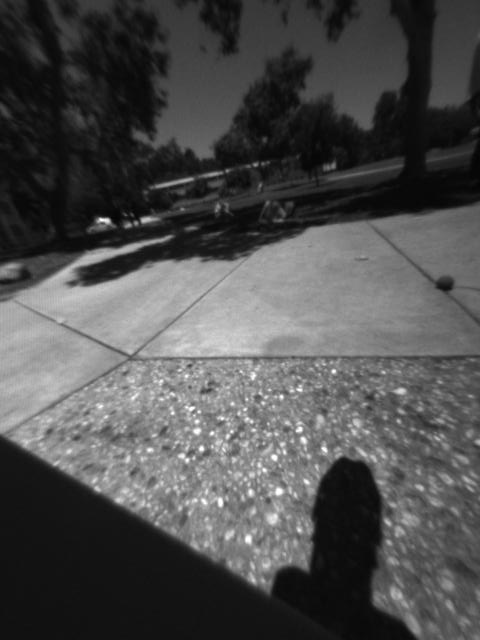dogtoy: (429, 264, 463, 298)
